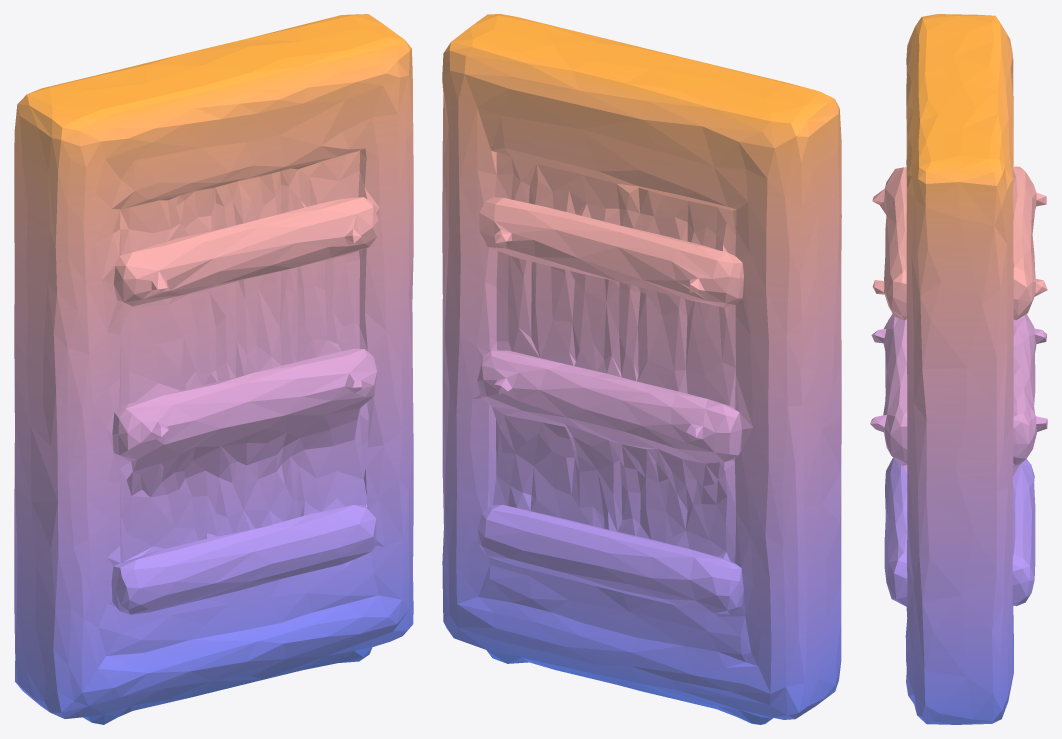
File: 166_cyb_laser_gradient_fish_scales_2949_2026_10_03_7e97f6.glb
3 renders of one model, left to right at view 1: azimuth 30°, elevation 25°; view 2: azimuth 150°, elevation 25°; view 3: azimuth 270°, elevation 25°, orthographic. The views are drawn at different scales.
Visible parts, largest first — view 1: geometry_0; view 2: geometry_0; view 3: geometry_0.
Boxes of the visible parts, x1=… form: geometry_0: x1=14, y1=14, x2=413, y2=724; geometry_0: x1=442, y1=14, x2=841, y2=724; geometry_0: x1=870, y1=14, x2=1047, y2=724.
Bounding box in the file's own units: 0.616 × 1 × 0.2807.
